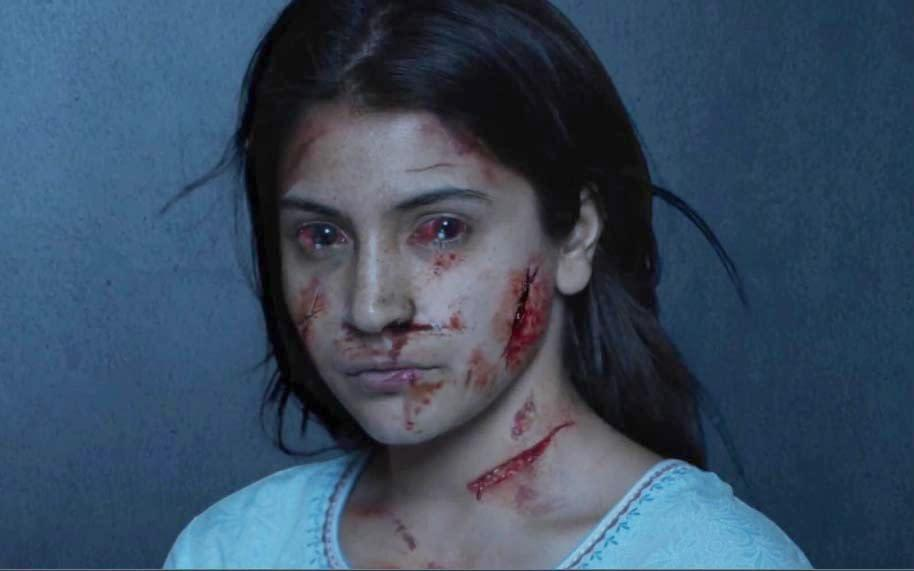Fire: (294, 216, 556, 442), (467, 422, 576, 501), (488, 474, 547, 526), (511, 390, 538, 440), (394, 517, 418, 552)
